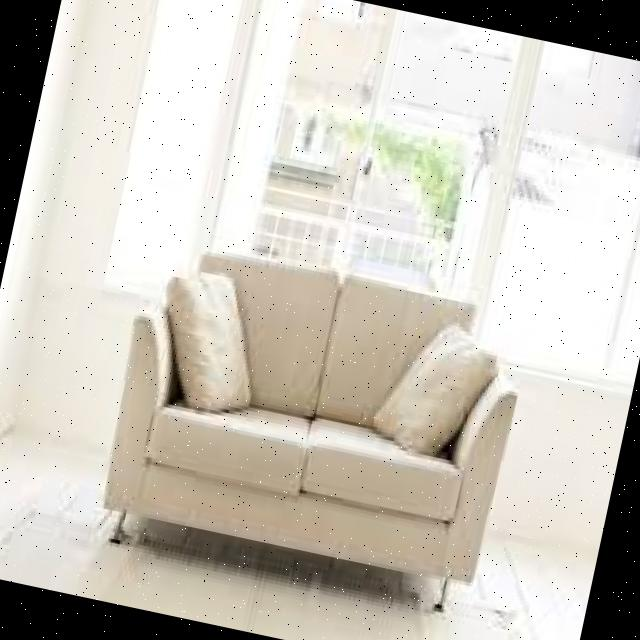Sofa: (56, 199, 574, 640)
